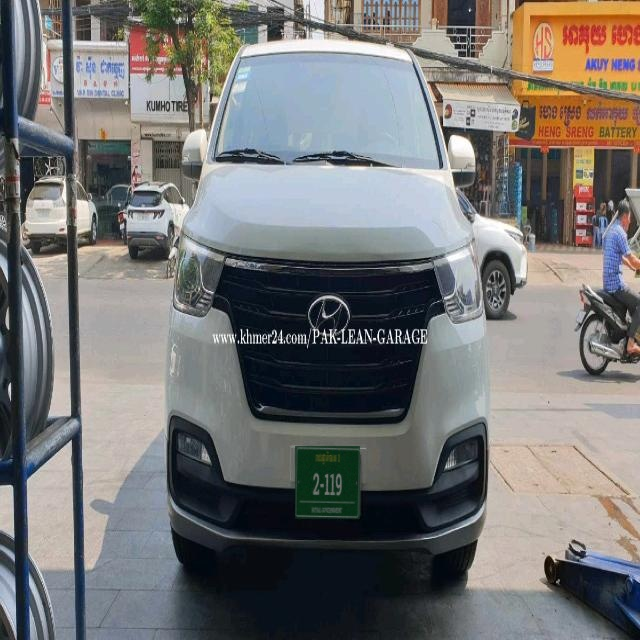Plate Number: (296, 447, 360, 519)
